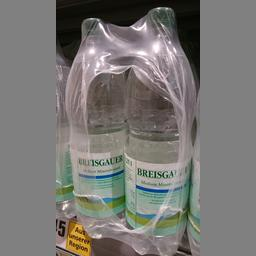water: (124, 4, 196, 254), (64, 17, 127, 239)
